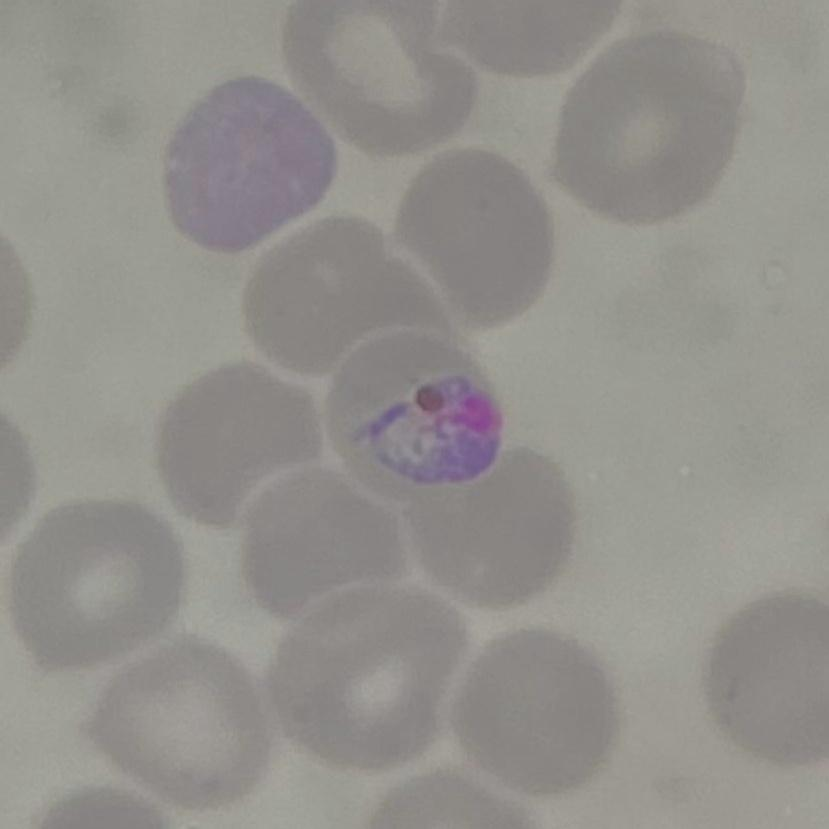Infected: (323, 330, 495, 502)
Uninfected: (555, 29, 742, 221), (271, 584, 463, 768), (91, 639, 270, 805), (285, 2, 474, 157), (246, 219, 430, 378), (166, 78, 335, 250), (12, 500, 181, 667), (396, 151, 555, 326), (404, 450, 574, 611), (452, 628, 613, 792), (158, 365, 317, 525), (238, 470, 404, 620), (709, 597, 826, 763)
